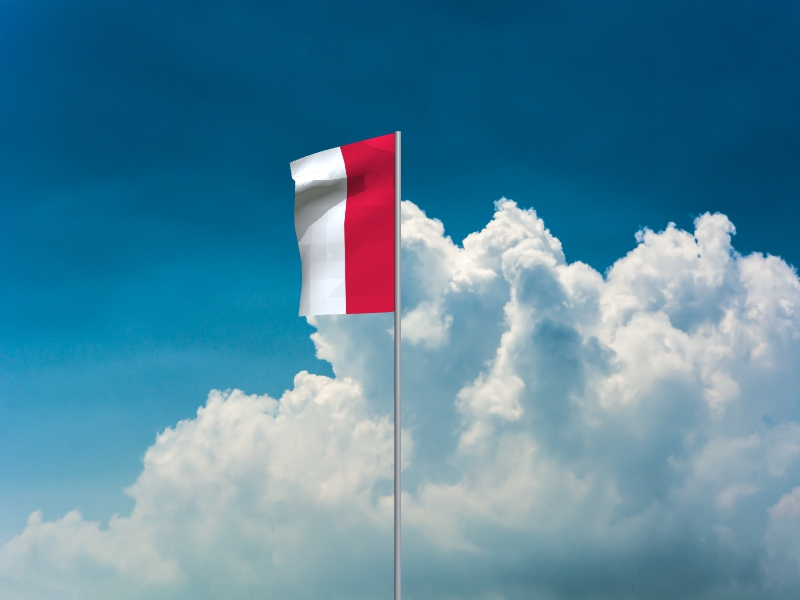pl: (290, 134, 394, 317)
